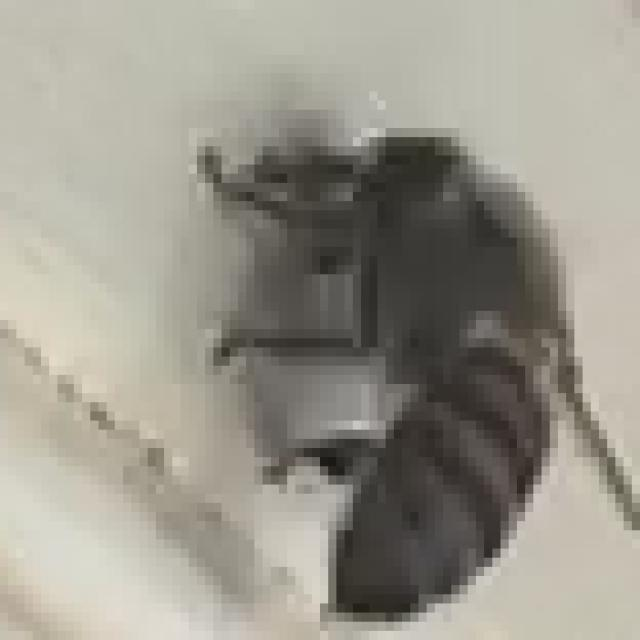honeybee: (202, 126, 623, 626)
